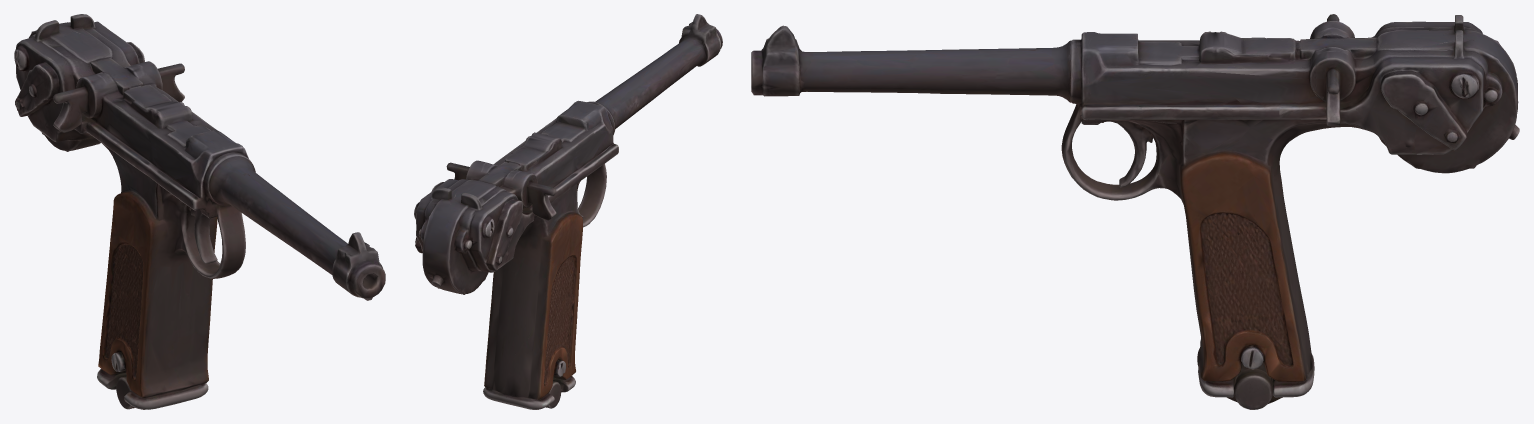
File: borchardt_c93.glb
3 views of the same model, side by side, from view 1: azimuth 30°, elevation 25°; view 2: azimuth 150°, elevation 25°; view 3: azimuth 270°, elevation 25° (orthographic). The views are drawn at different scales.
Visible parts, largest first — view 1: Gun; view 2: Gun; view 3: Gun.
Boxes of the visible parts, box(x1,y1,x2,y2) form: Gun: box(14, 14, 385, 409); Gun: box(414, 14, 722, 409); Gun: box(751, 14, 1519, 409).
Size of the model in its own units: 0.0804 by 0.1889 by 0.355.
1 material, 1 textured.
